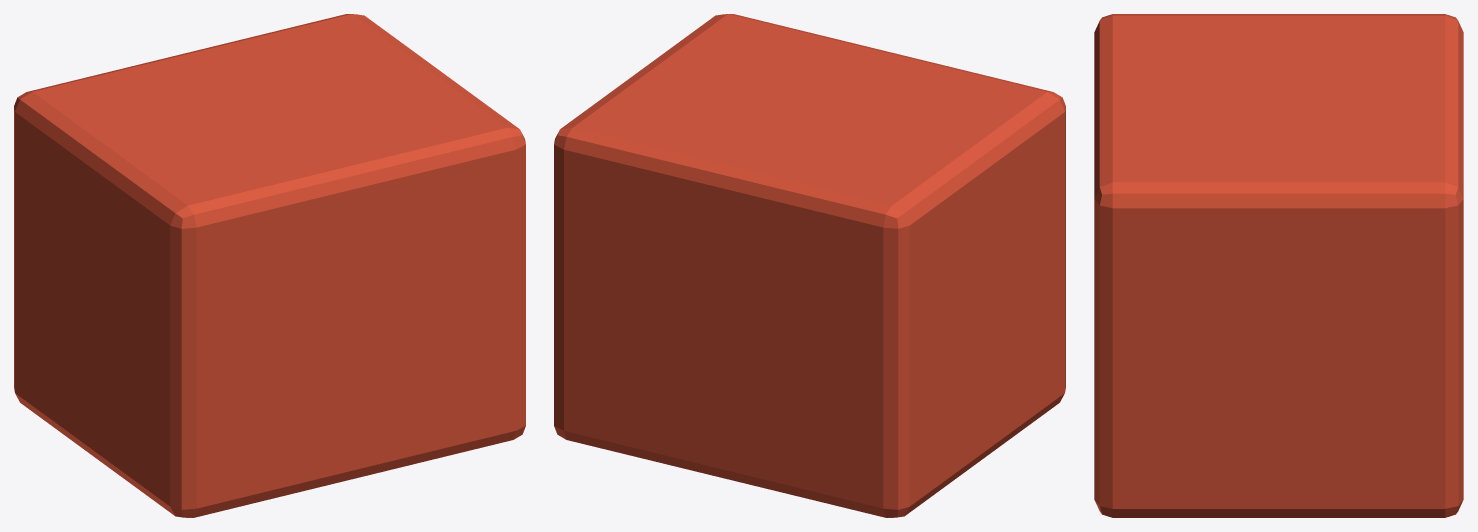
Rendered from square_orange.fbx.
The picture shows the model from 3 angles, left to right: view 1: azimuth 30°, elevation 25°; view 2: azimuth 150°, elevation 25°; view 3: azimuth 270°, elevation 25°; orthographic projection. The views are drawn at different scales.
Visible parts, largest first — view 1: 4; view 2: 4; view 3: 4.
Part boxes in pixels (x1=…): 4: x1=14, y1=14, x2=525, y2=517; 4: x1=554, y1=14, x2=1065, y2=517; 4: x1=1094, y1=14, x2=1463, y2=517.
Bounding box in the file's own units: 0.359 × 0.302 × 0.3026.
